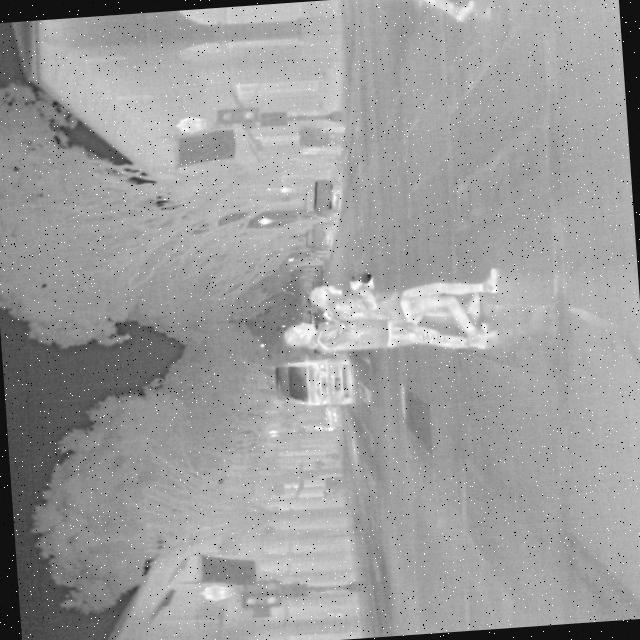Pedestrian: (306, 263, 505, 354), (278, 303, 492, 366), (318, 0, 476, 33)
Vehicle: (271, 354, 354, 410)
